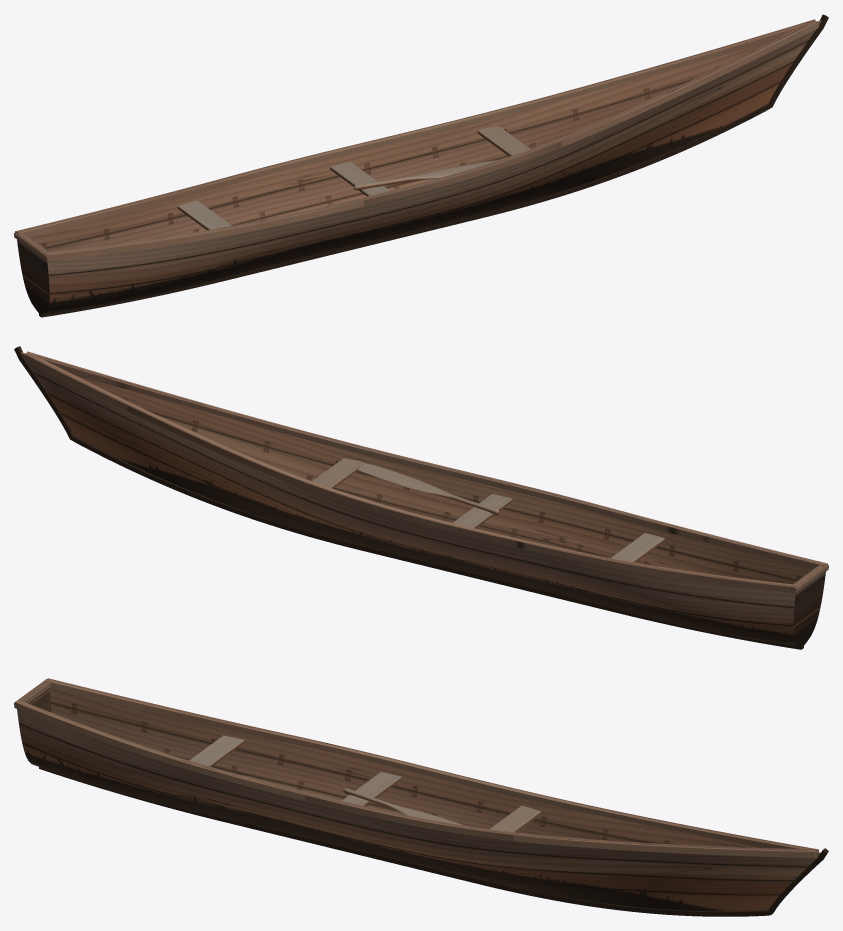
Rendered from Sabani_A.gltf.
3 renders of one model, top to bottom at view 1: azimuth 30°, elevation 25°; view 2: azimuth 150°, elevation 25°; view 3: azimuth 330°, elevation 25°, orthographic.
Parts seen in each view (by area): view 1: Sabani_A; view 2: Sabani_A; view 3: Sabani_A.
Boxes of the visible parts, x1,y1,x2,y2 form: Sabani_A: [14, 14, 828, 317]; Sabani_A: [14, 346, 828, 649]; Sabani_A: [14, 678, 828, 916].
Bounding box in the file's own units: 7.21 × 1.02 × 0.932.
2 materials, 2 textured.
